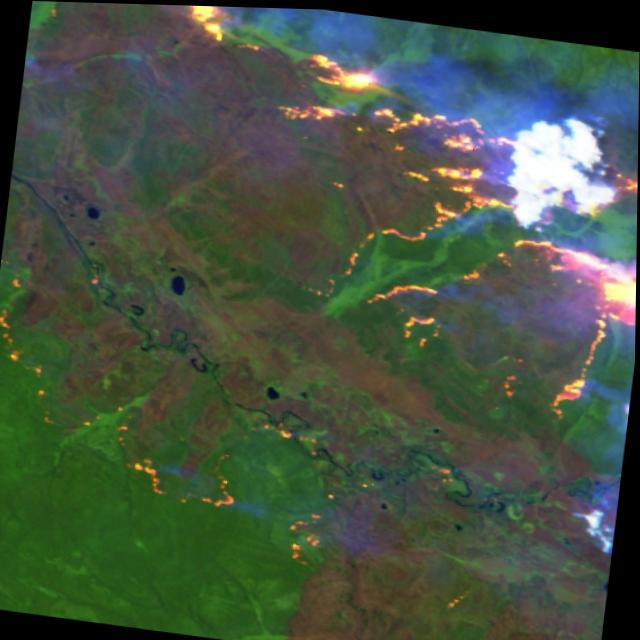fire: (0, 0, 640, 422)
